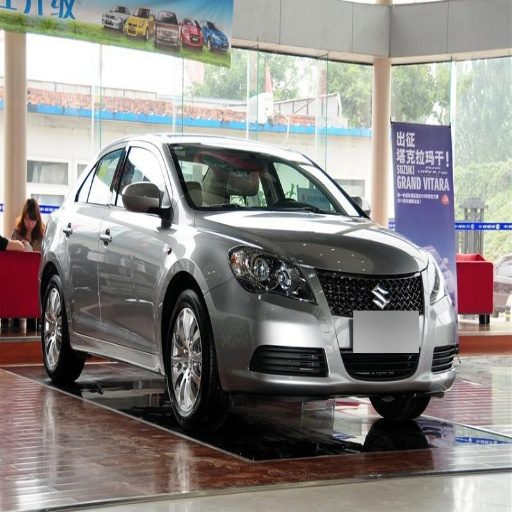front_bumper: (208, 267, 453, 391)
front_right_door: (99, 143, 173, 351)
front_right_light: (228, 244, 311, 299)
